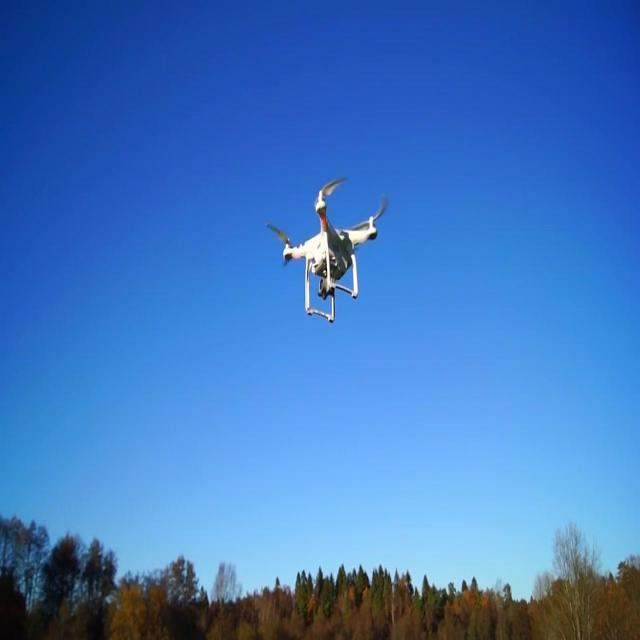UAV: (265, 176, 389, 323)
